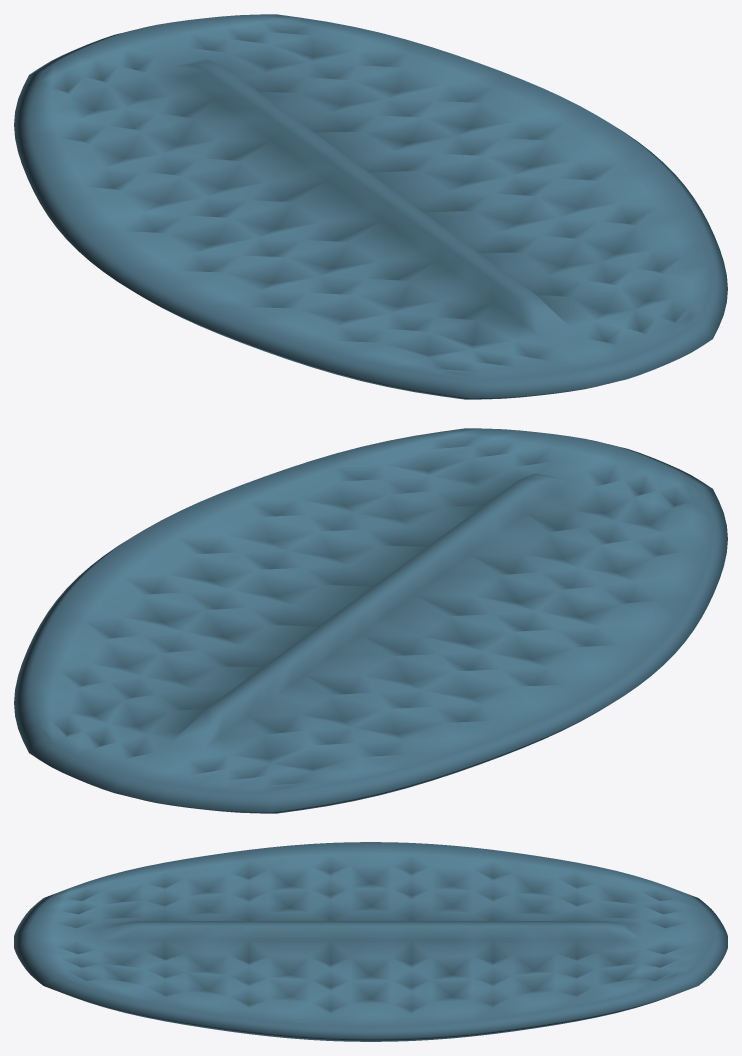
File: microscopic-plankton-oval-diatom_v1.glb
3 views of the same model, one above another, from view 1: azimuth 30°, elevation 25°; view 2: azimuth 150°, elevation 25°; view 3: azimuth 270°, elevation 25° (orthographic). The views are drawn at different scales.
Parts seen in each view (by area): view 1: Oval Diatom; view 2: Oval Diatom; view 3: Oval Diatom.
Part boxes in pixels (left/top/right/bottom): Oval Diatom: left=14, top=14, right=727, bottom=399; Oval Diatom: left=14, top=428, right=727, bottom=813; Oval Diatom: left=14, top=842, right=727, bottom=1041.
Size of the model in its own units: 0.3207 by 0.0277 by 0.5.
